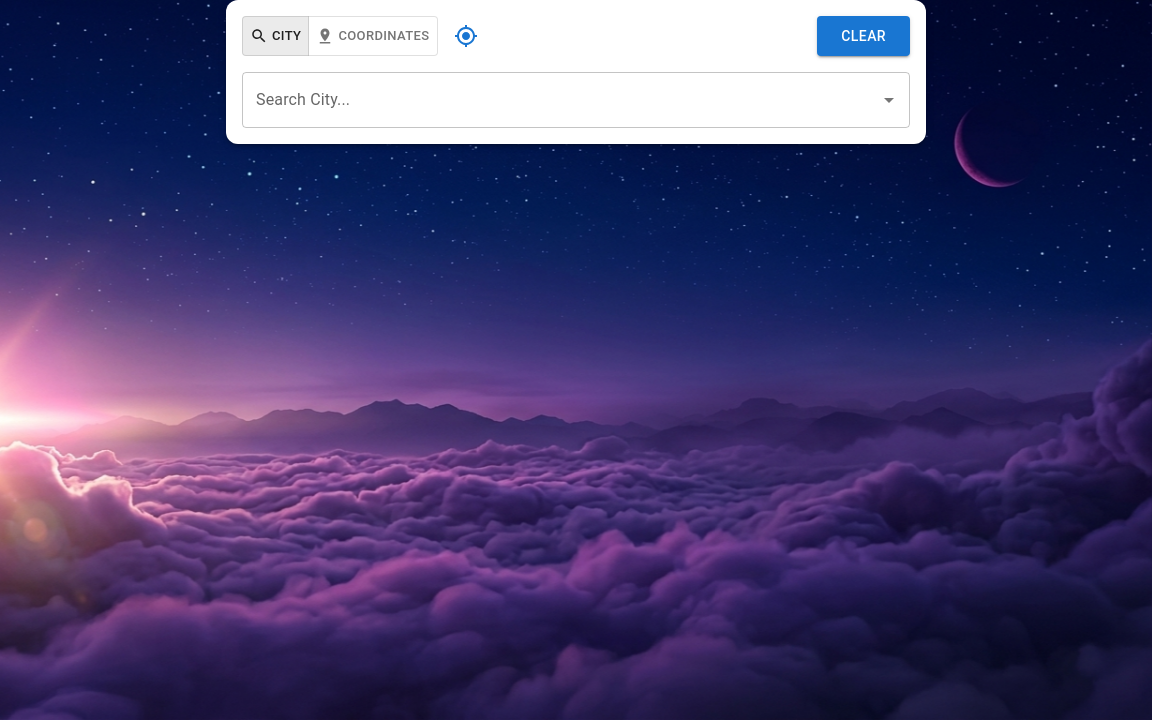
Scenario: SearchBar Component › Coordinates Mode › switches UI to coordinate form when coordinate tab is clicked
The width and height of the screenshot is (1152, 720).
Click the button with aria-label "coordinates search" at (373,36), box 308,16 -> 438,56
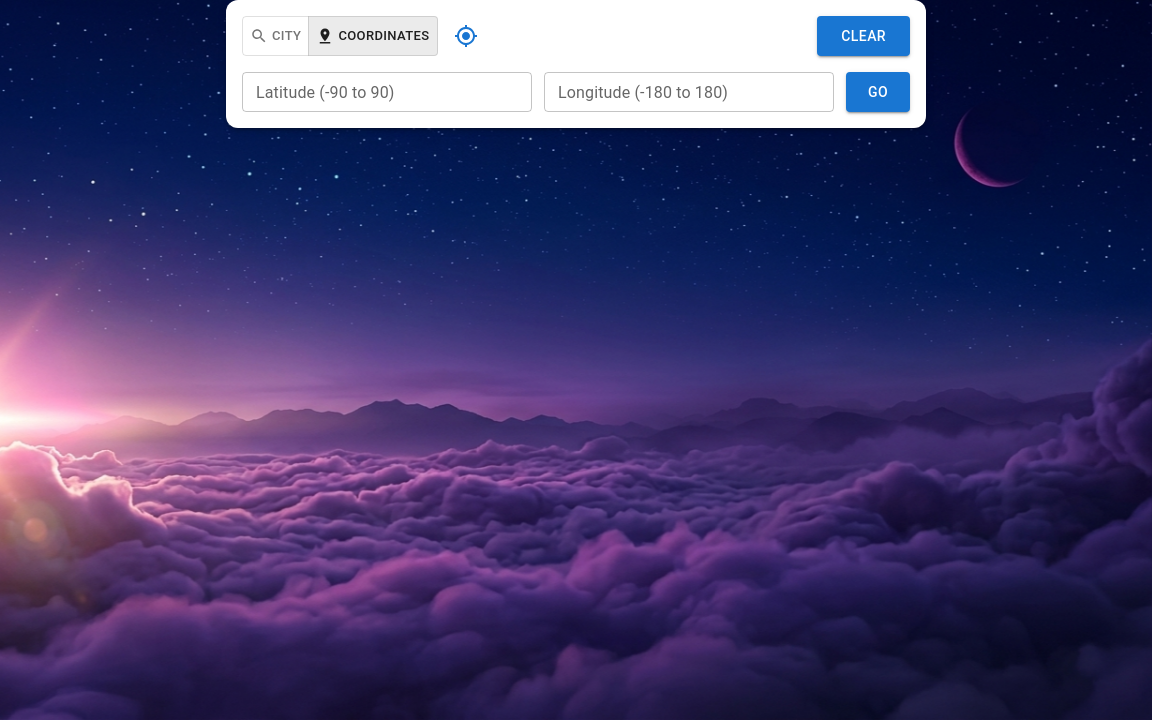
Check: the number field labelled "Latitude (-90 to 90)" is shown, box 242,72 -> 532,112
Check: the number field labelled "Longitude (-180 to 180)" is shown, box 544,72 -> 834,112
Check: the button "Go" is shown, box 846,72 -> 910,112
